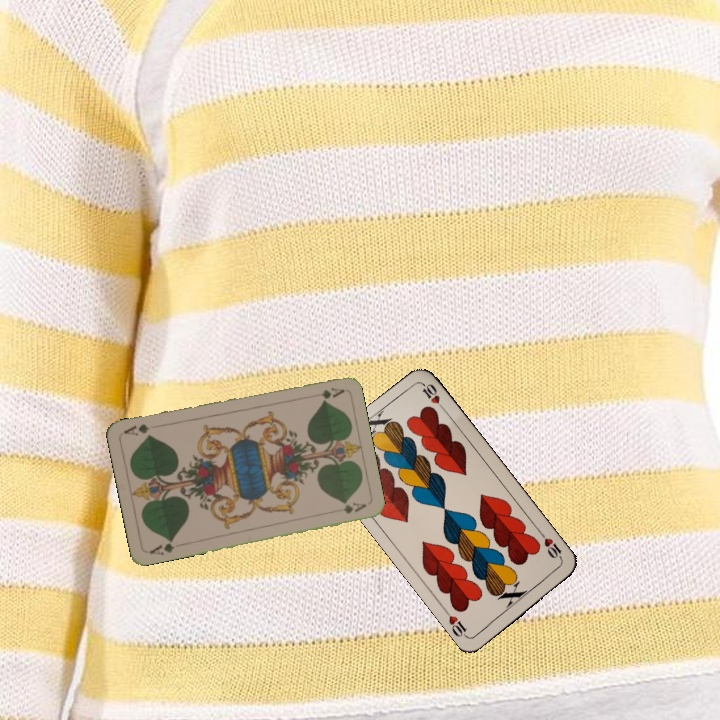GA: (145, 535, 185, 558), (317, 384, 346, 401)
H10: (536, 529, 565, 564)
